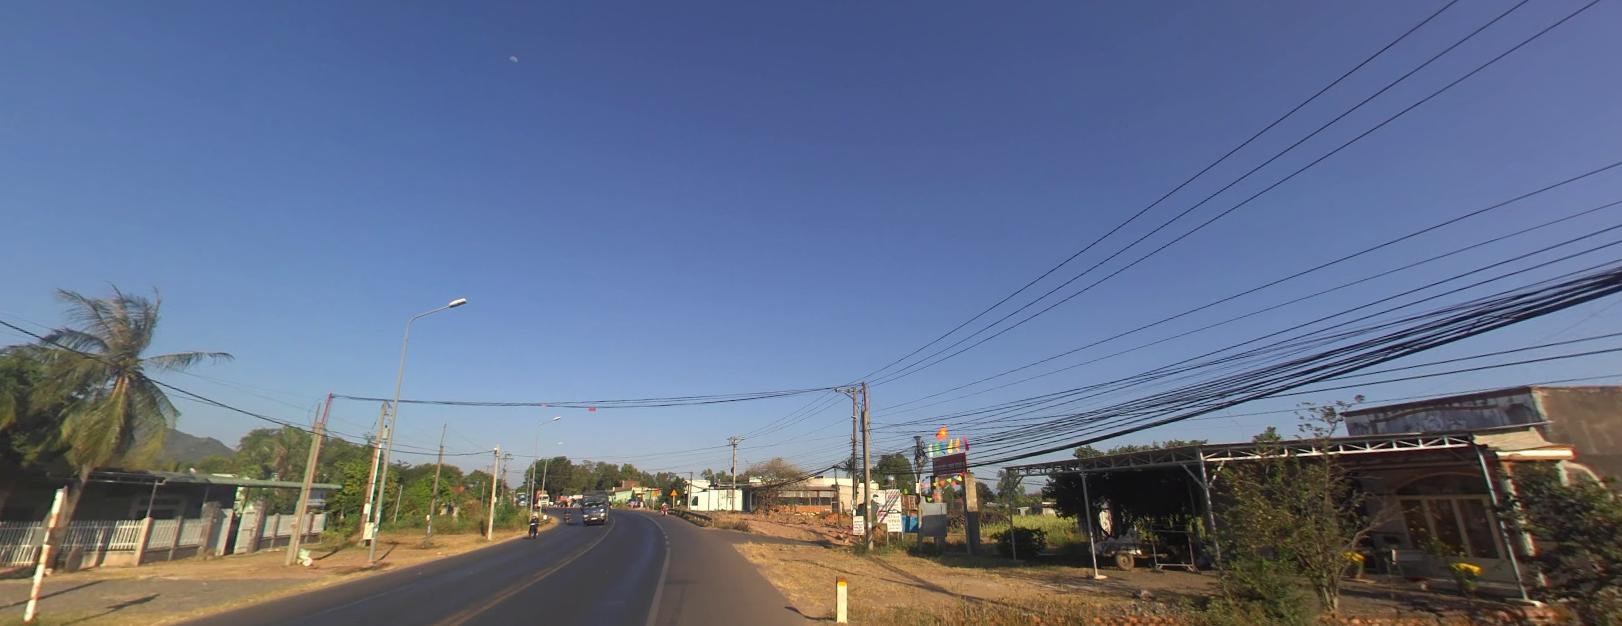Nguy hiem: (669, 487, 677, 494)
